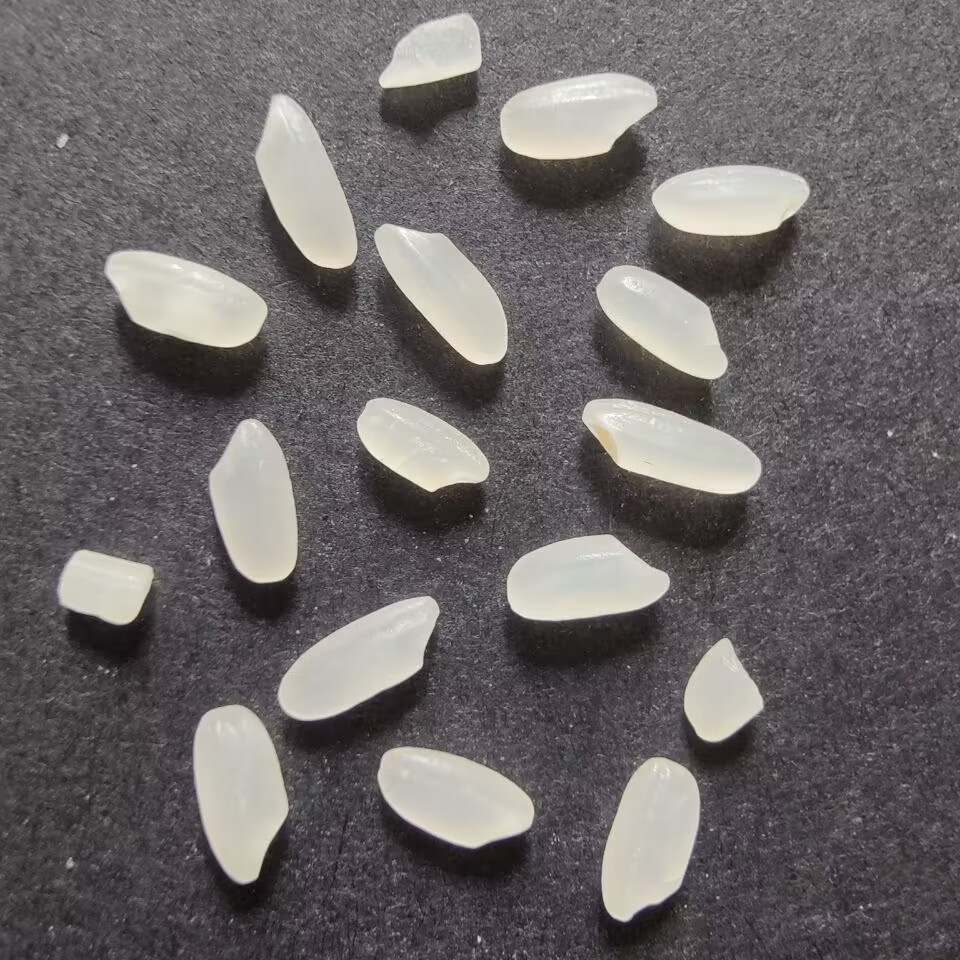broken: (673, 632, 769, 747), (48, 542, 159, 633), (377, 12, 484, 89)
rice: (370, 214, 518, 375), (272, 590, 443, 721), (253, 90, 362, 277), (191, 703, 298, 892), (577, 395, 768, 499), (94, 246, 276, 351), (595, 750, 702, 928), (369, 744, 540, 854), (501, 526, 677, 628), (592, 258, 733, 384), (203, 411, 301, 590), (489, 68, 666, 165), (352, 393, 497, 496), (641, 157, 820, 239)
